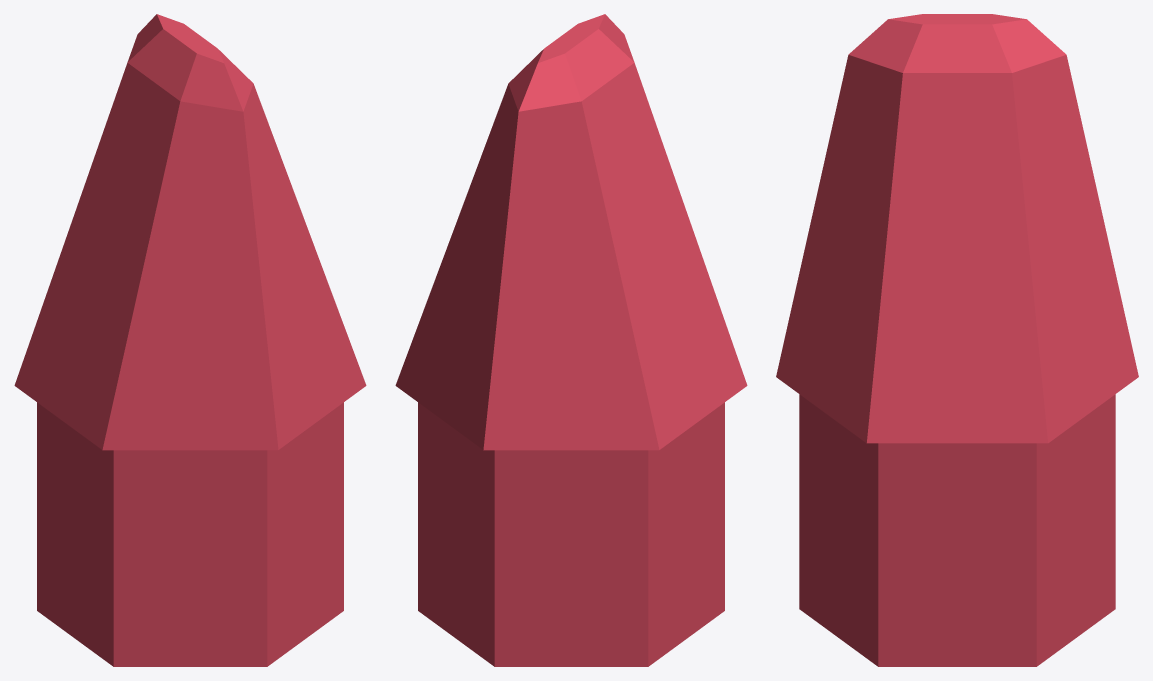
Rendered from Pencil Top Eraser (grappiing hook).fbx.
3 views of the same model, side by side, from view 1: azimuth 30°, elevation 25°; view 2: azimuth 150°, elevation 25°; view 3: azimuth 270°, elevation 25° (orthographic). The views are drawn at different scales.
Visible parts, largest first — view 1: eraser tip; view 2: eraser tip; view 3: eraser tip.
Part boxes in pixels (x1,y1,x2,y2): eraser tip: (14, 14, 366, 666); eraser tip: (395, 14, 747, 666); eraser tip: (776, 14, 1138, 666).
Bounding box in the file's own units: 199 × 411 × 229.
